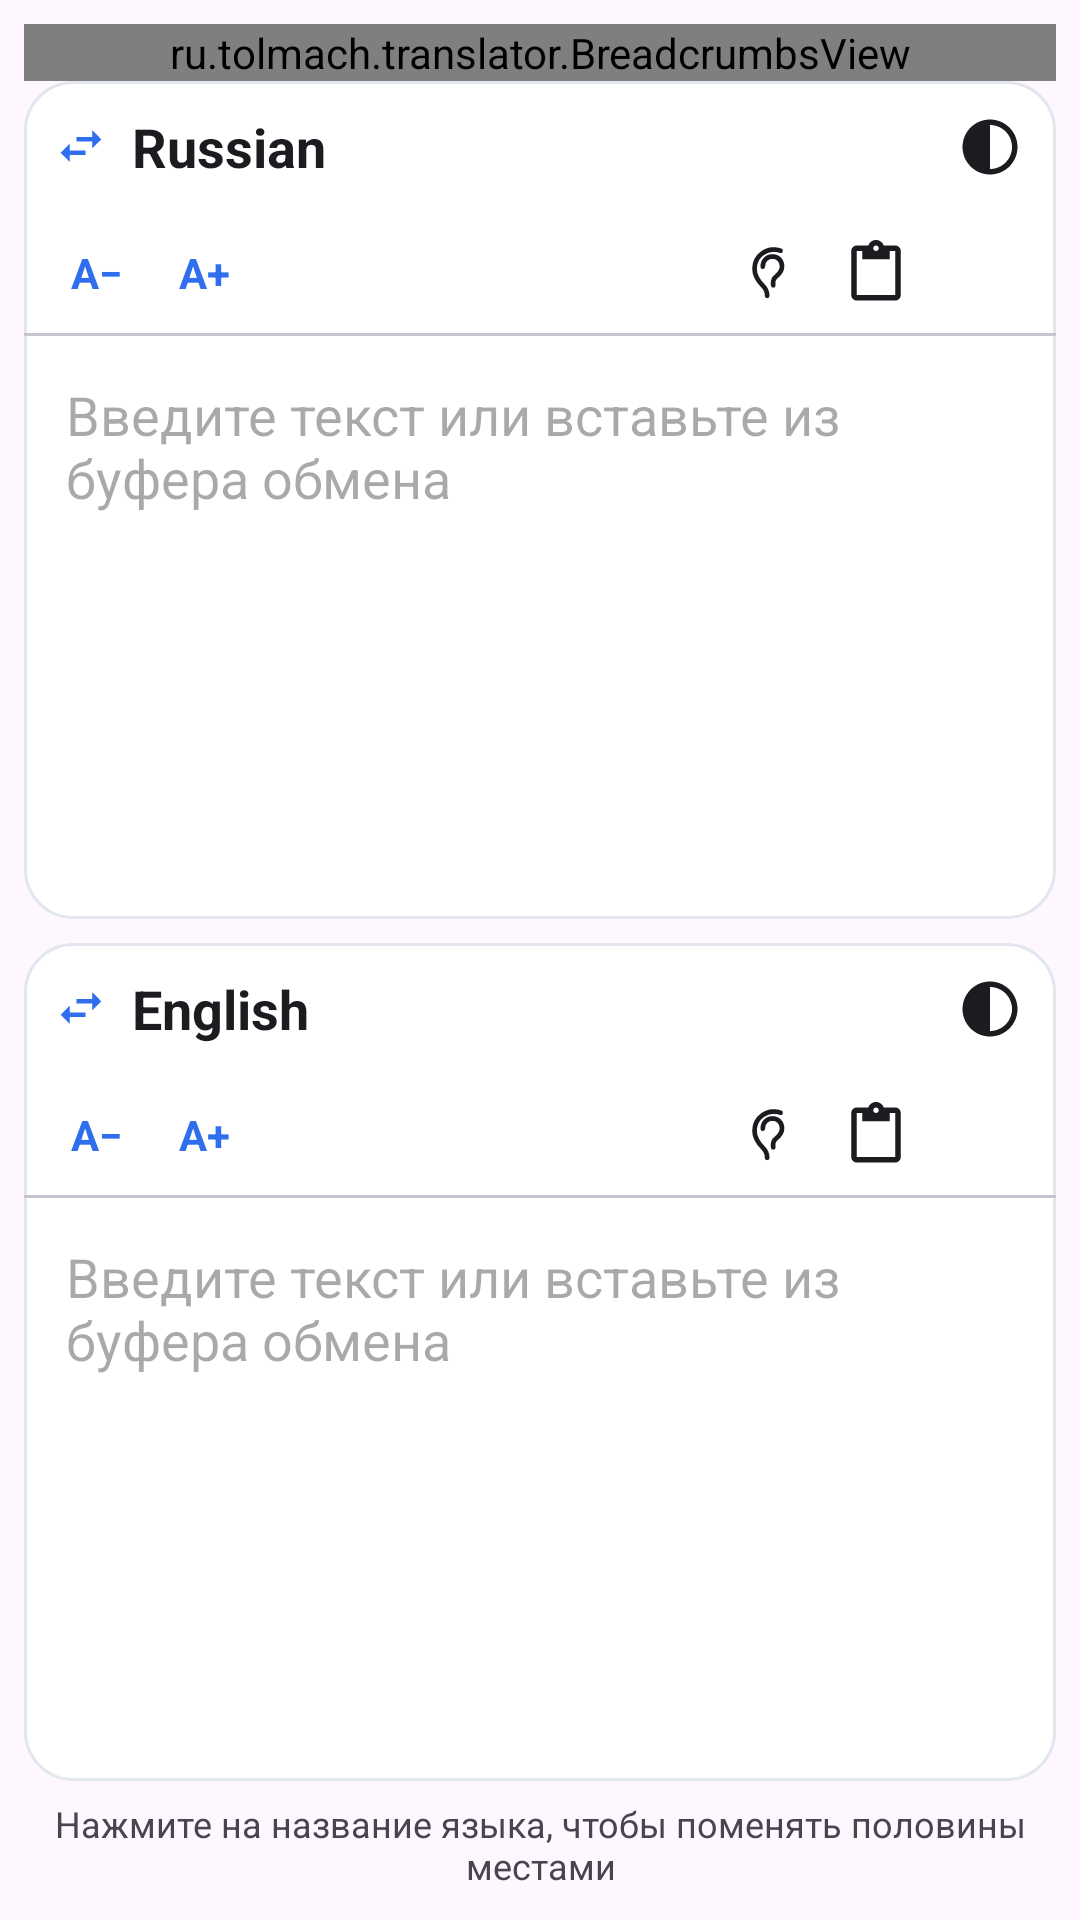

Where to tap for icons on this 1080px x 1920px app screen, as (x=x, y=y):
Вставить текст из буфера обмена: (x=876, y=270), (x=876, y=1132)
Переключить светлую и тёмную тему: (x=990, y=147), (x=990, y=1009)
Прочитать текст вслух: (x=768, y=272), (x=768, y=1134)
